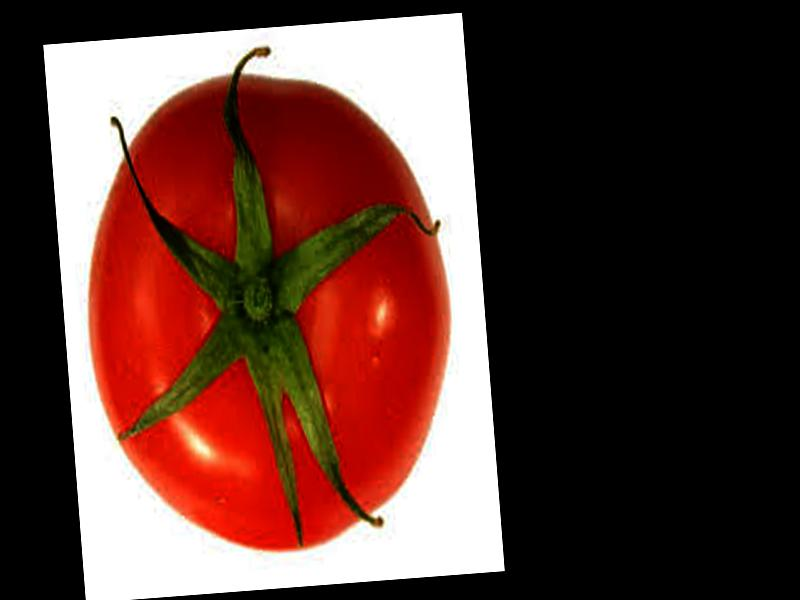Tomato: (71, 60, 465, 566)
